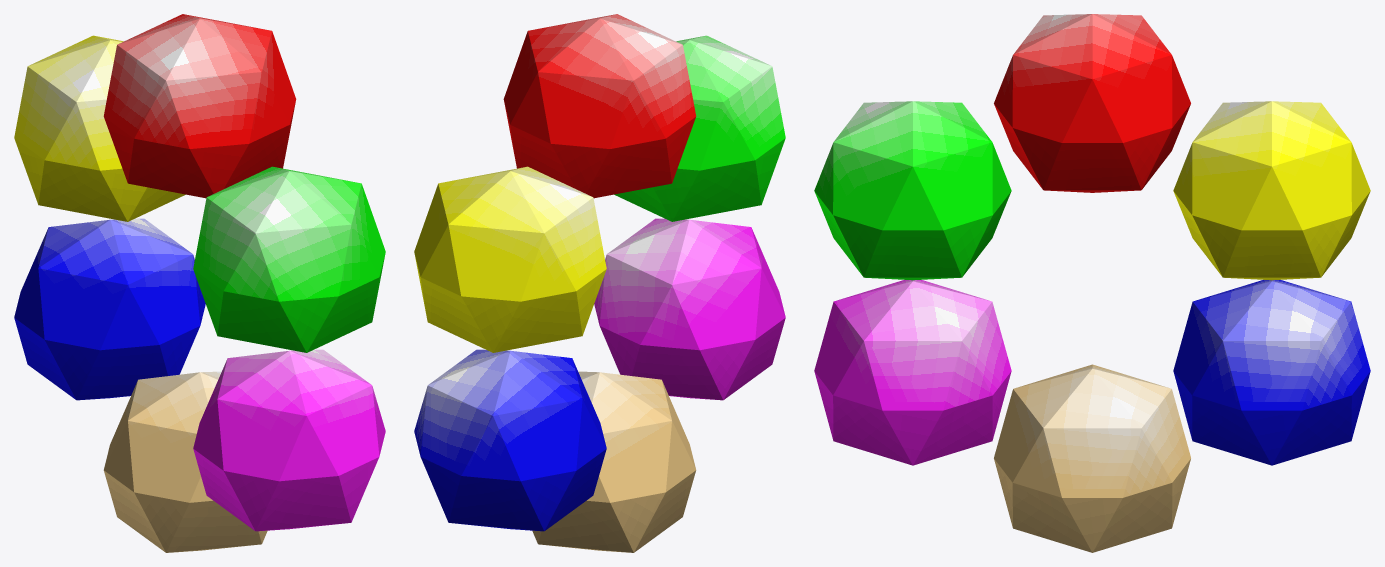
Rendered from major_ap_model.fbx.
The picture shows the model from 3 angles, left to right: view 1: azimuth 30°, elevation 25°; view 2: azimuth 150°, elevation 25°; view 3: azimuth 270°, elevation 25°; orthographic projection.
Parts seen in each view (by area): view 1: Icosphere; view 2: Icosphere; view 3: Icosphere.
Boxes of the visible parts, x1,y1,x2,y2 form: Icosphere: (14,14,385,552); Icosphere: (414,14,785,552); Icosphere: (814,14,1370,552).
Size of the model in its own units: 47.55 by 149 by 141.
1 material, 1 textured.
